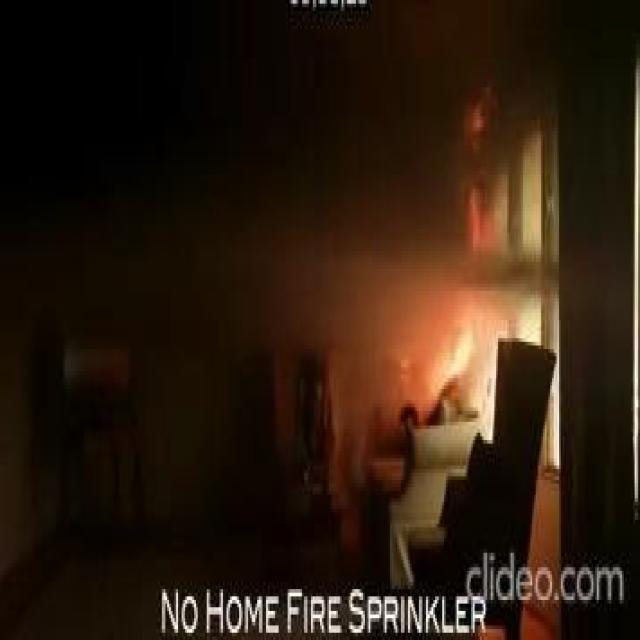smoke: (432, 309, 478, 407), (468, 186, 486, 262), (464, 105, 487, 142)
